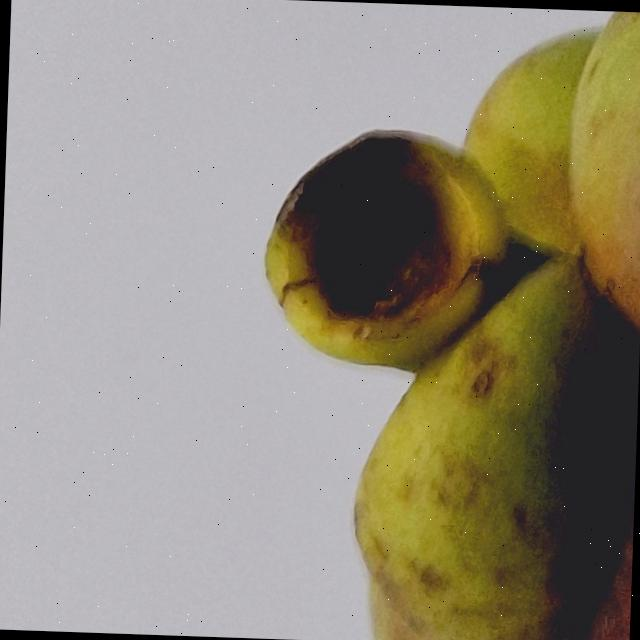mangosteen: (169, 0, 640, 640)
